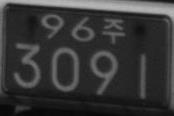0: (49, 46, 80, 92)
1: (130, 52, 155, 99)
3: (13, 42, 41, 89)
6: (70, 16, 95, 42)
9: (89, 49, 119, 96), (40, 13, 64, 39)
주: (102, 17, 125, 44)
